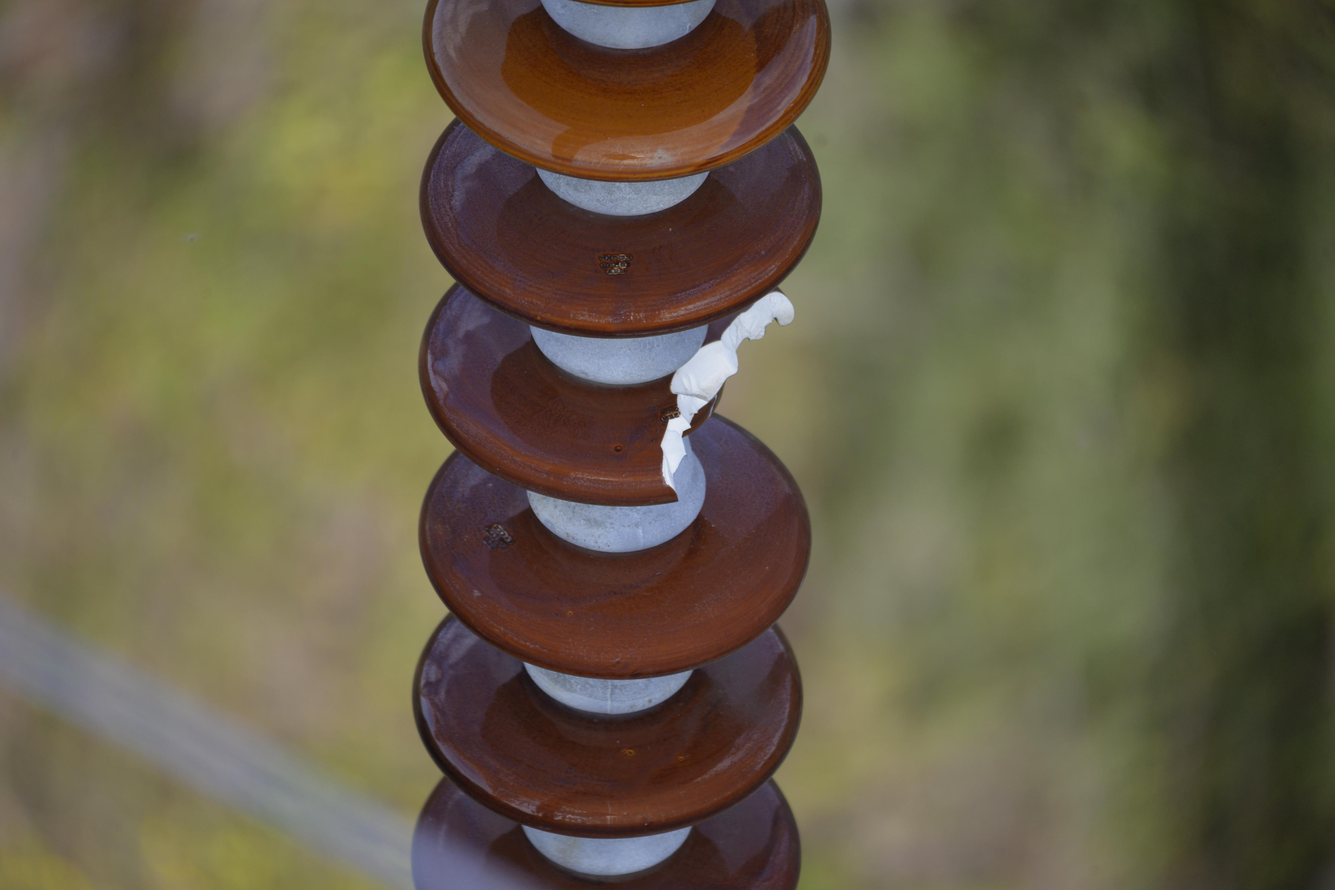damaged: (639, 290, 800, 504)
insulator: (413, 0, 828, 888)
